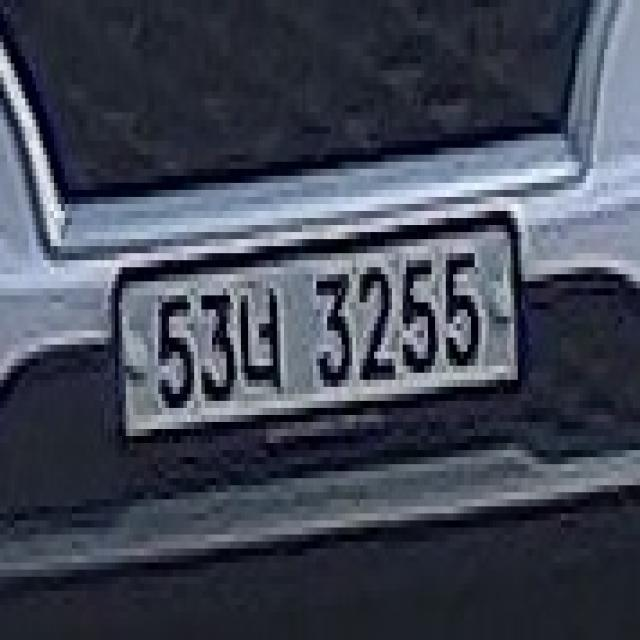2: (356, 265, 402, 394)
3: (310, 264, 356, 398), (200, 280, 240, 408)
5: (152, 283, 195, 426), (442, 242, 482, 386), (400, 252, 438, 382)
license_plate: (101, 165, 541, 493)
neo: (237, 279, 290, 394)
